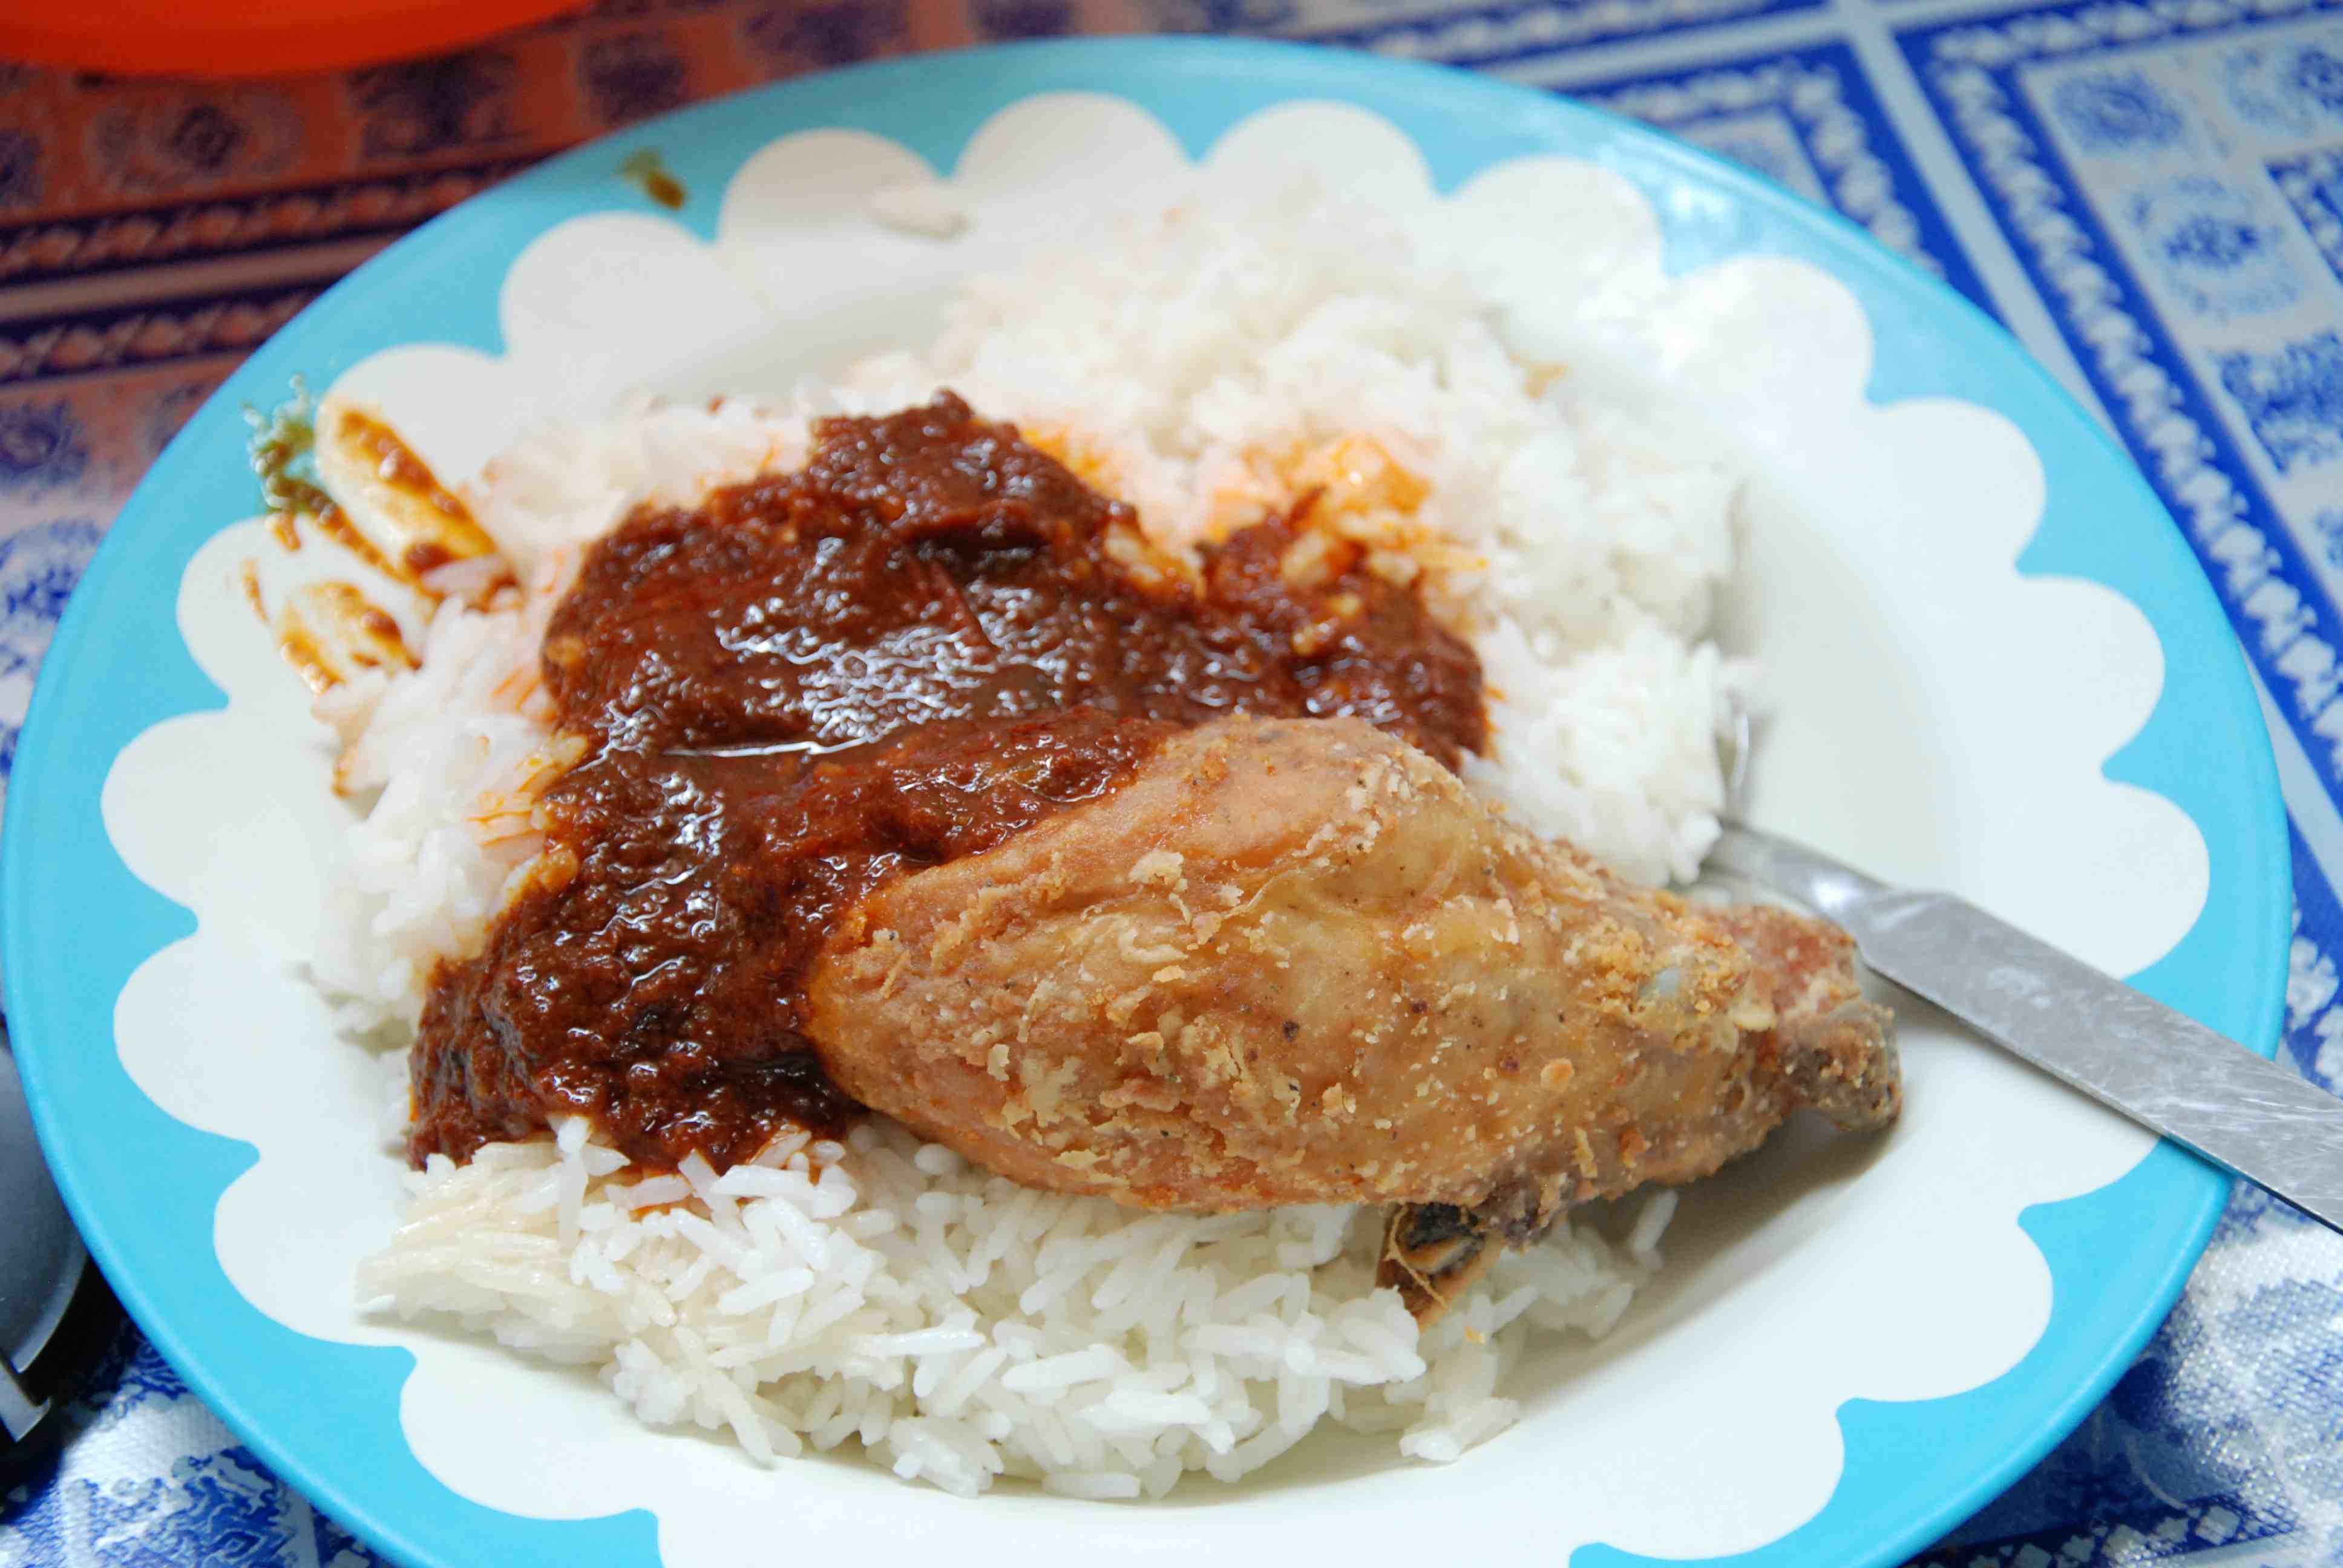plain rice: (474, 1139, 1384, 1488), (1162, 296, 1766, 768), (325, 612, 528, 968)
